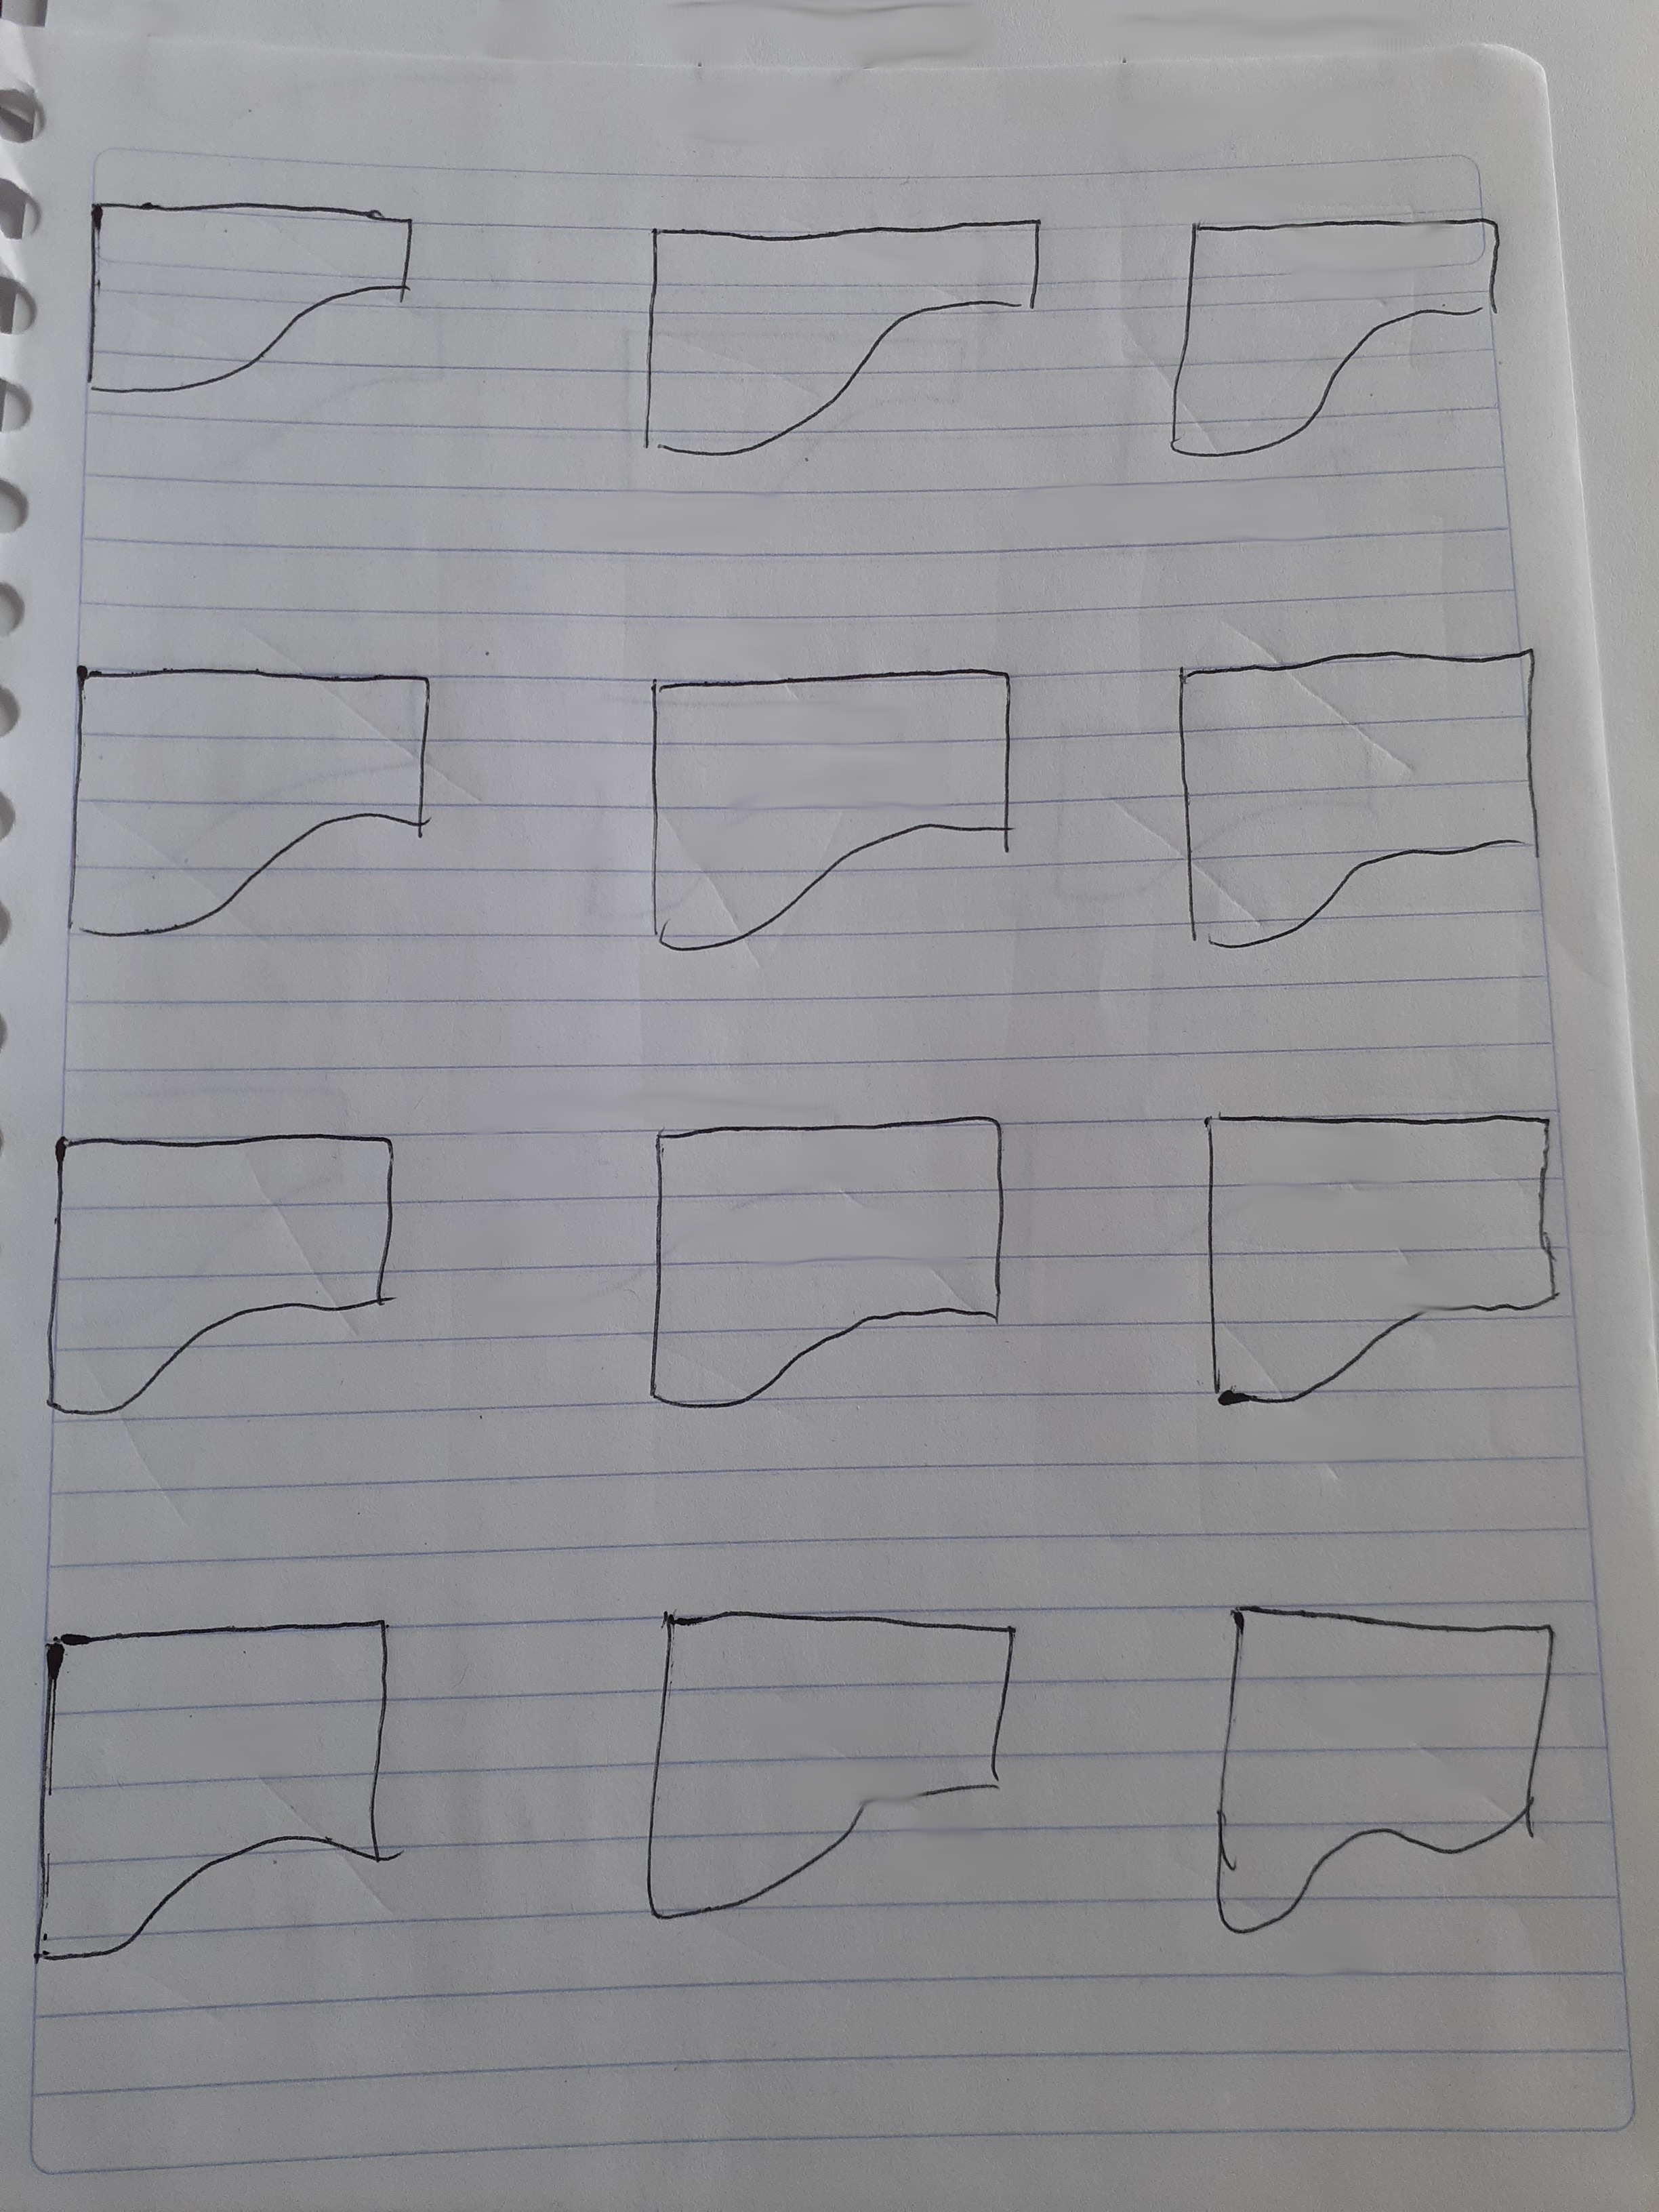print: (1155, 1082, 1582, 1447), (10, 1604, 422, 1980), (1180, 1550, 1560, 1949), (627, 1573, 1025, 1946), (1133, 641, 1570, 967), (610, 1103, 1032, 1428), (617, 636, 1037, 960), (31, 1106, 415, 1446), (52, 632, 444, 951), (624, 192, 1068, 465), (1147, 199, 1528, 469), (75, 178, 430, 415)
